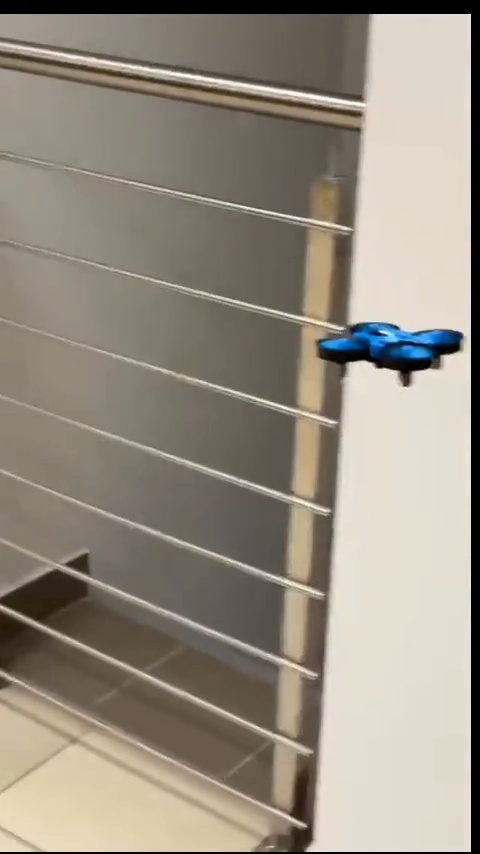drone: (310, 320, 465, 390)
